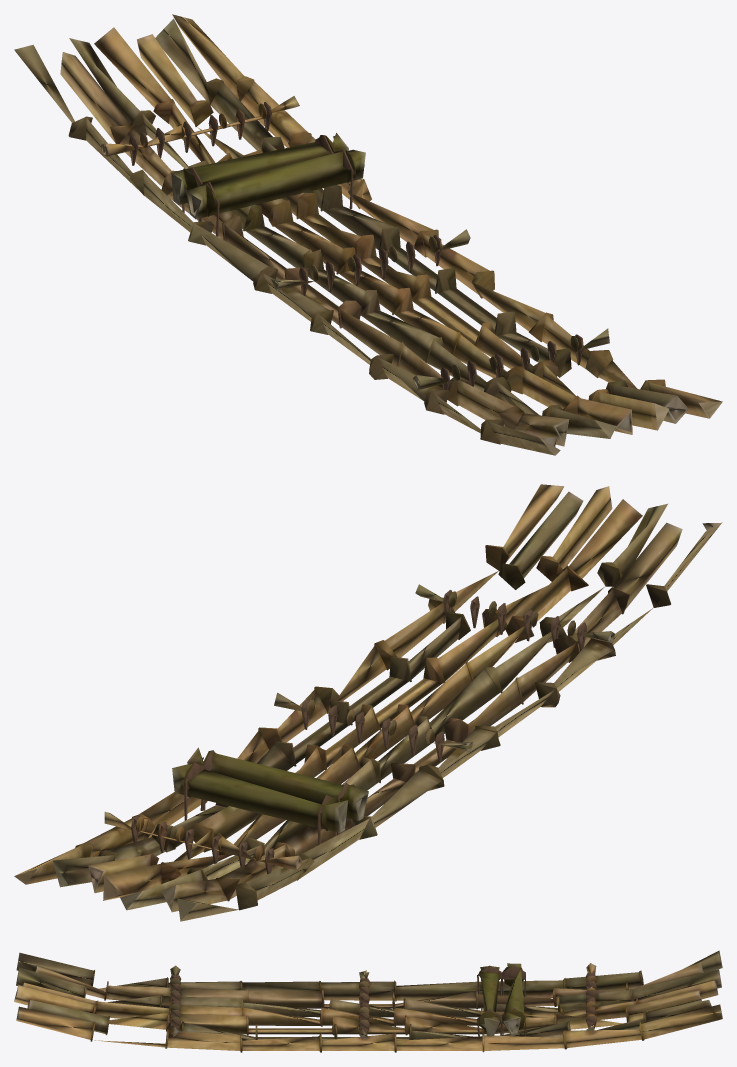
Rendered from Raft.glb.
3 views of the same model, one above another, from view 1: azimuth 30°, elevation 25°; view 2: azimuth 150°, elevation 25°; view 3: azimuth 270°, elevation 25° (orthographic). The views are drawn at different scales.
Parts seen in each view (by area): view 1: 3d66-Editable_Poly-20077105-001; view 2: 3d66-Editable_Poly-20077105-001; view 3: 3d66-Editable_Poly-20077105-001.
Part boxes in pixels (<box>): 3d66-Editable_Poly-20077105-001: <box>14,14,722,455</box>; 3d66-Editable_Poly-20077105-001: <box>14,484,722,921</box>; 3d66-Editable_Poly-20077105-001: <box>14,950,722,1052</box>.
Size of the model in its own units: 0.7545 by 0.2788 by 3.63.
1 material, 1 textured.
